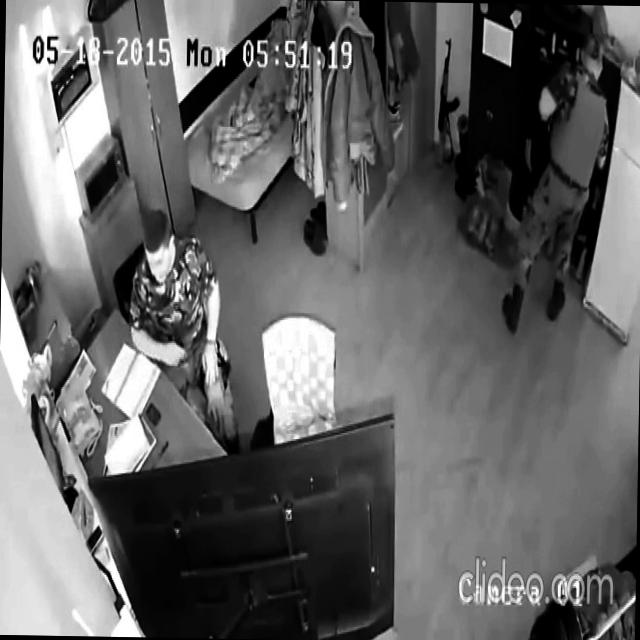gun: (436, 34, 462, 170)
person: (500, 29, 612, 338), (126, 205, 245, 454)
